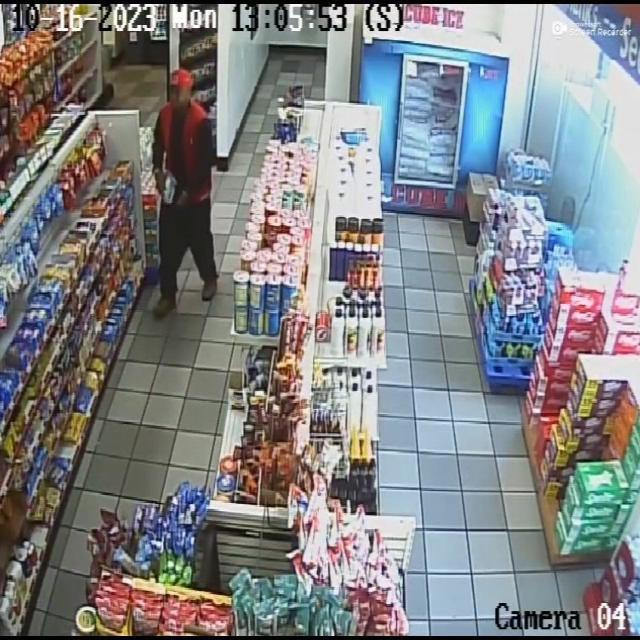Normal: (151, 47, 222, 308)
